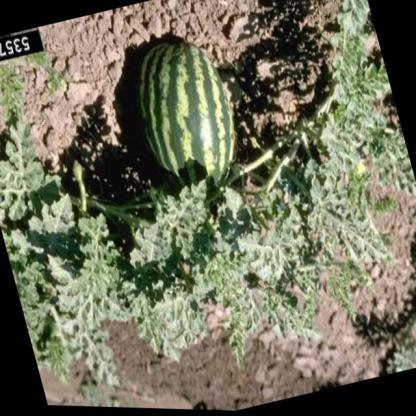watermelon: (124, 32, 251, 210)
